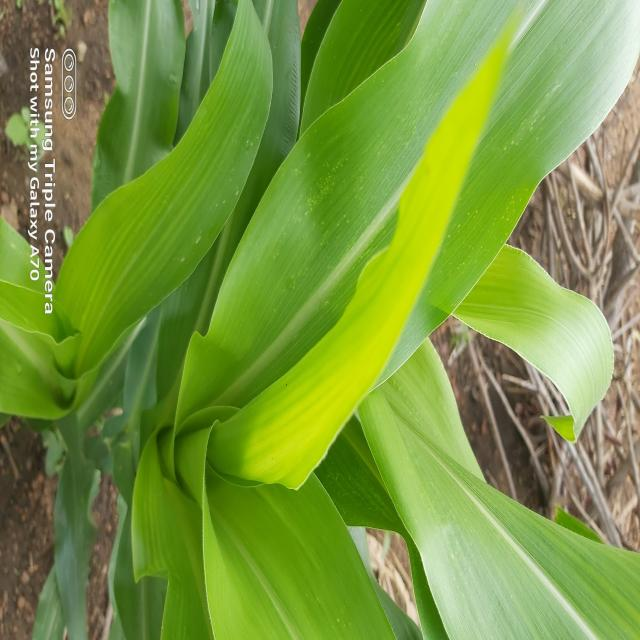healthy-maize: (111, 52, 500, 254), (105, 278, 406, 420), (141, 432, 345, 640), (427, 498, 497, 628), (510, 83, 564, 159), (487, 272, 547, 335), (515, 1, 565, 62), (576, 78, 592, 129)
